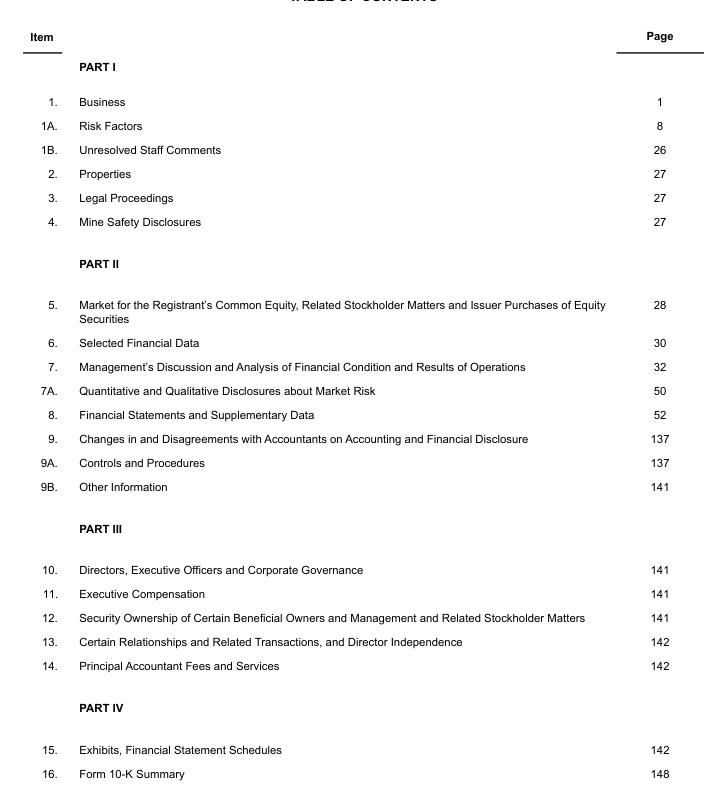table: (29, 29, 672, 779)
table column: (67, 29, 625, 779), (625, 29, 672, 779), (29, 29, 67, 779)
table column header: (29, 29, 672, 83)
table row: (29, 29, 672, 83), (29, 283, 672, 330), (29, 241, 672, 283), (29, 686, 672, 728), (29, 507, 672, 548), (29, 474, 672, 507), (29, 548, 672, 581), (29, 653, 672, 686), (29, 209, 672, 241), (29, 728, 672, 760), (29, 83, 672, 113), (29, 113, 672, 137), (29, 137, 672, 161), (29, 161, 672, 185), (29, 185, 672, 209), (29, 330, 672, 354), (29, 354, 672, 378), (29, 378, 672, 402), (29, 402, 672, 426), (29, 426, 672, 450), (29, 450, 672, 474), (29, 581, 672, 605), (29, 605, 672, 629), (29, 629, 672, 653), (29, 760, 672, 779)
table spanning cell: (29, 653, 67, 728), (29, 209, 67, 283), (29, 474, 67, 548)
